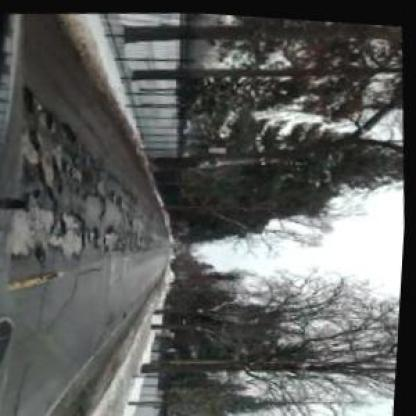pothole: (18, 86, 42, 115), (58, 120, 83, 142), (54, 161, 69, 194), (90, 225, 106, 248), (10, 196, 30, 212), (56, 218, 72, 236)
